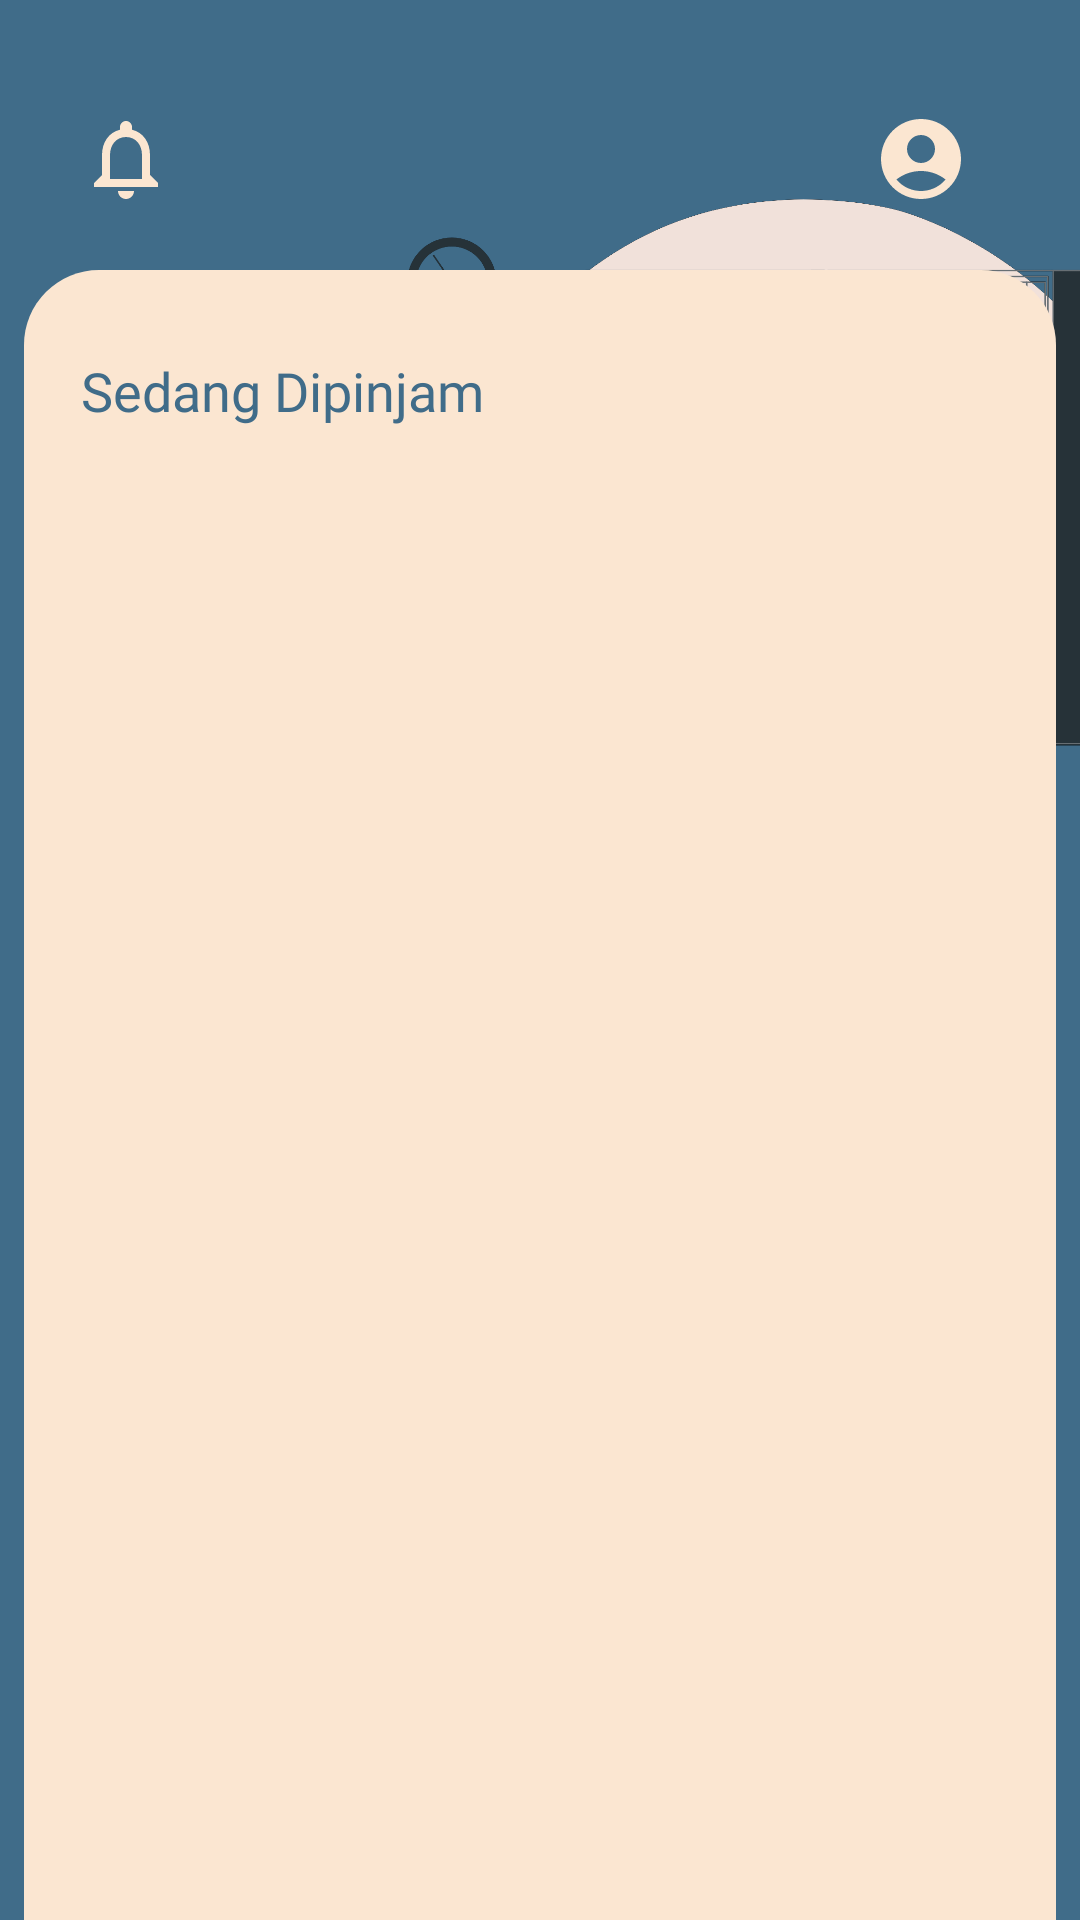

Icon click points for this 1080w x 1920h phone screenshot, format [x,y]:
account: [921,159]
notif: [126,160]
